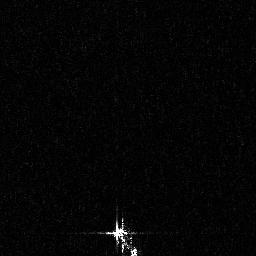ship: (77, 205, 155, 256)
